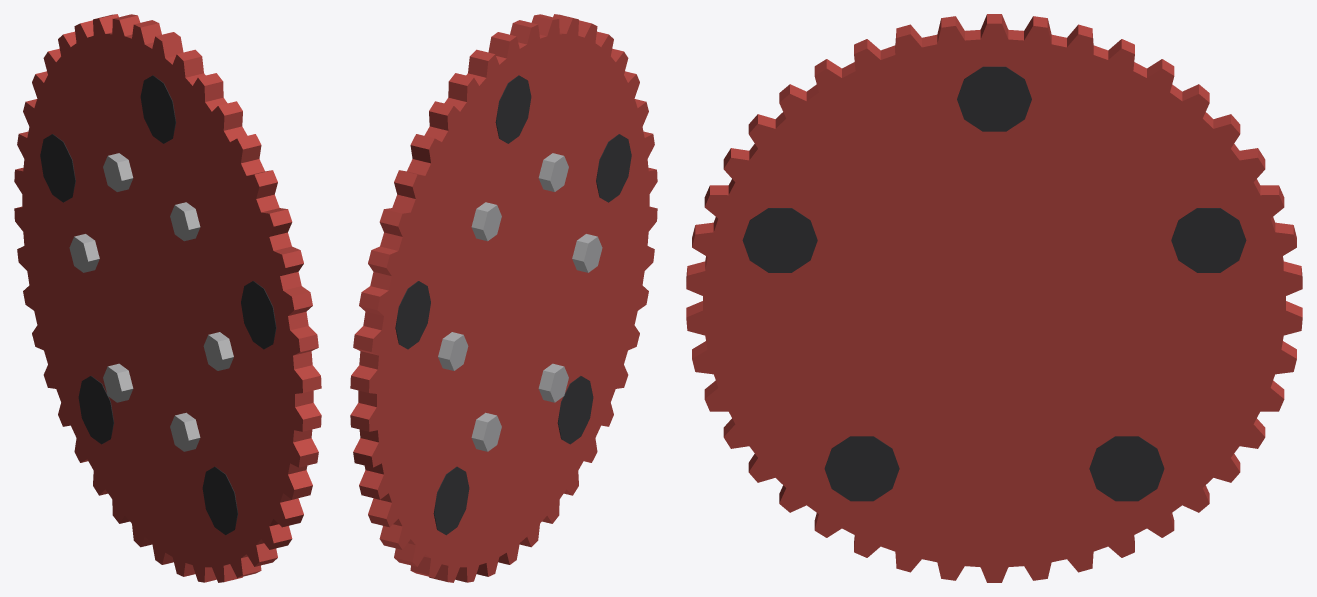
File: rear_42.glb
3 renders of one model, left to right at view 1: azimuth 30°, elevation 25°; view 2: azimuth 150°, elevation 25°; view 3: azimuth 270°, elevation 25°, orthographic. The views are drawn at different scales.
Parts seen in each view (by area): view 1: lod0; view 2: lod0; view 3: lod0.
Boxes of the visible parts, x1,y1,x2,y2 form: lod0: (14,14,321,582); lod0: (350,14,657,582); lod0: (686,14,1302,582).
Size of what is drawn, in the model's own units: 0.0137 by 0.2154 by 0.2152.
